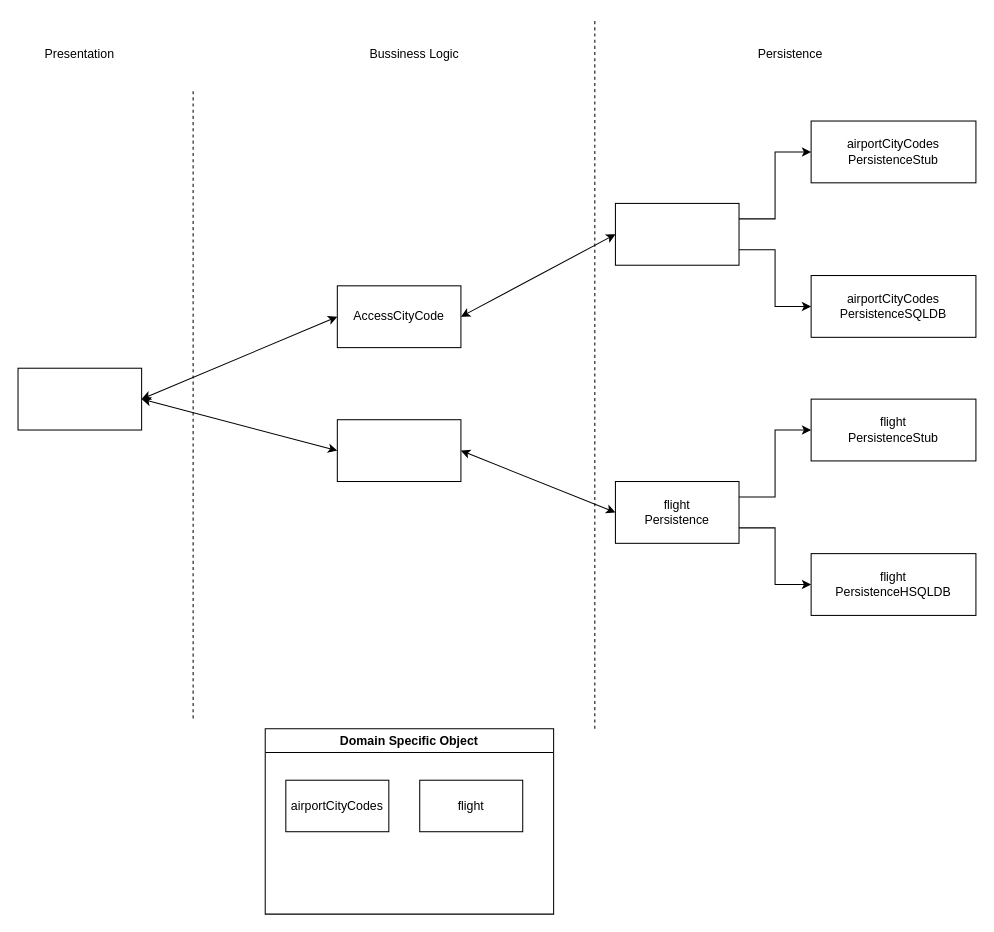
Image size: 994x932. Some labels were removed from this diagram. The centre of each missing label's shape, as x and y in pixels:
"AccessFilght" goes at (398,450).
"airportCityCodes Persistence" goes at (676,233).
"MainActivity" goes at (79,398).
